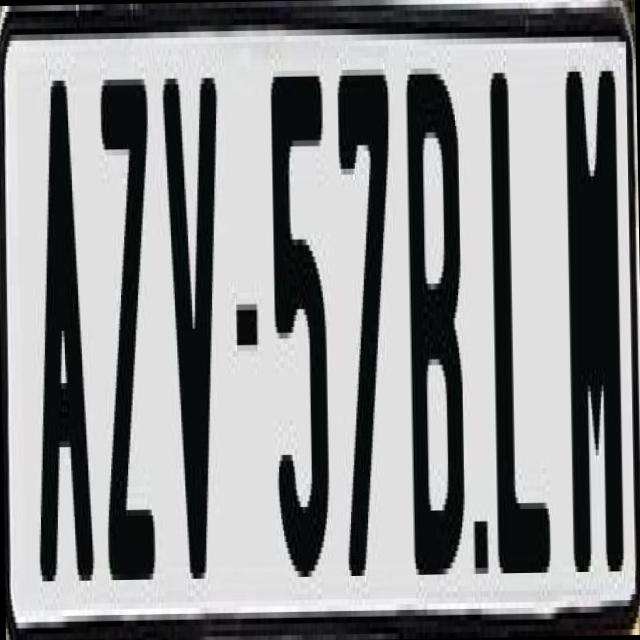5: (270, 76, 336, 588)
7: (336, 62, 402, 599)
A: (28, 74, 100, 587)
B: (401, 73, 461, 586)
L: (484, 54, 546, 591)
M: (564, 52, 624, 584)
V: (162, 65, 225, 590)
Z: (95, 67, 151, 574)
